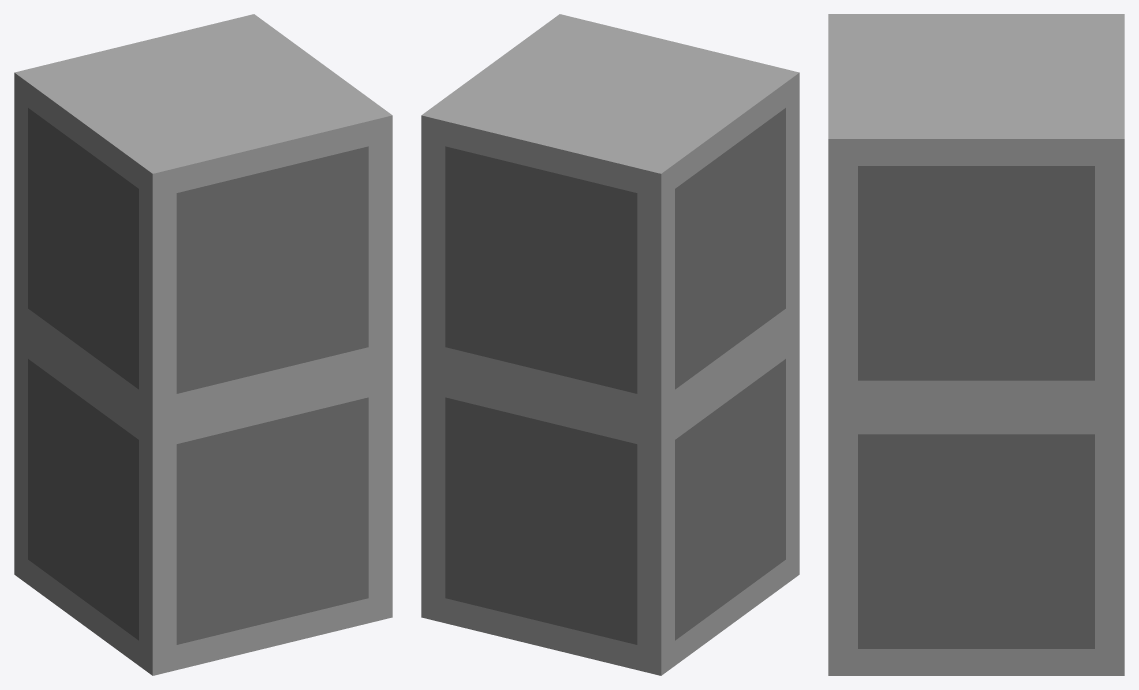
File: Wall.obj
3 views of the same model, side by side, from view 1: azimuth 30°, elevation 25°; view 2: azimuth 150°, elevation 25°; view 3: azimuth 270°, elevation 25° (orthographic). The views are drawn at different scales.
Size of the model in its own units: 10 by 20 by 10.
1 material, 1 textured.
